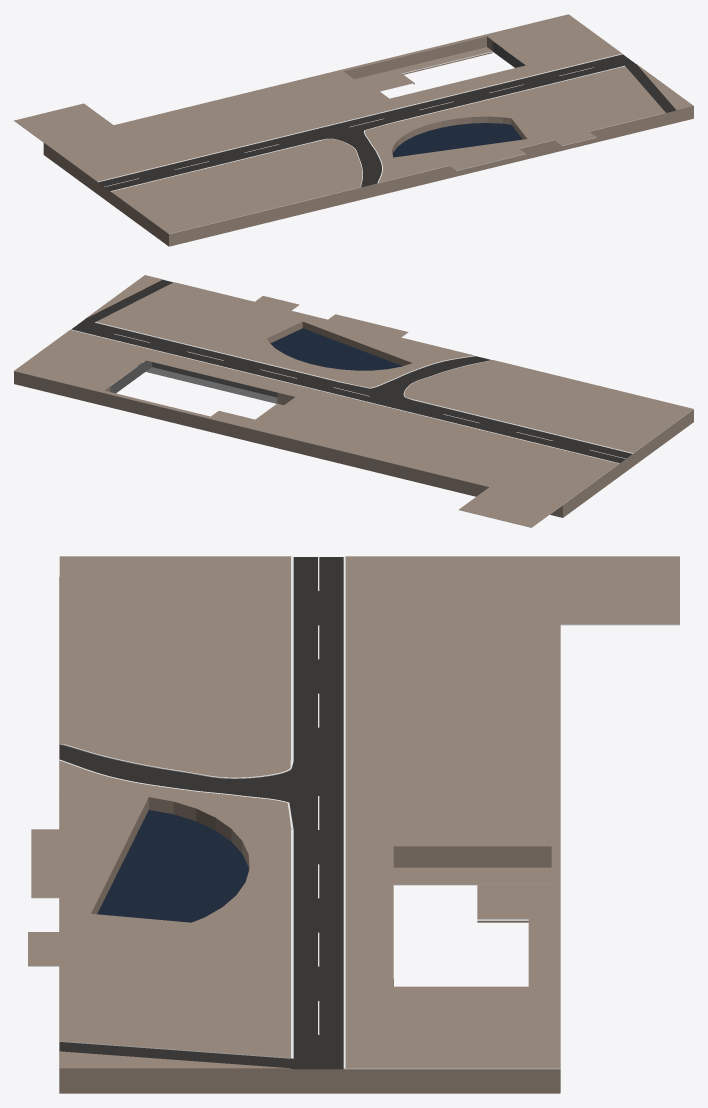
3 renders of one model, top to bottom at view 1: azimuth 30°, elevation 25°; view 2: azimuth 150°, elevation 25°; view 3: azimuth 270°, elevation 25°, orthographic. The views are drawn at different scales.
Visible parts, largest first — view 1: base.main; view 2: base.main; view 3: base.main.
Part boxes in pixels (box(x1,y1,x2,y2)): base.main: box(14, 14, 693, 246); base.main: box(14, 275, 693, 527); base.main: box(28, 556, 679, 1093).
Size of the model in its own units: 30 by 0.693 by 16.13.
